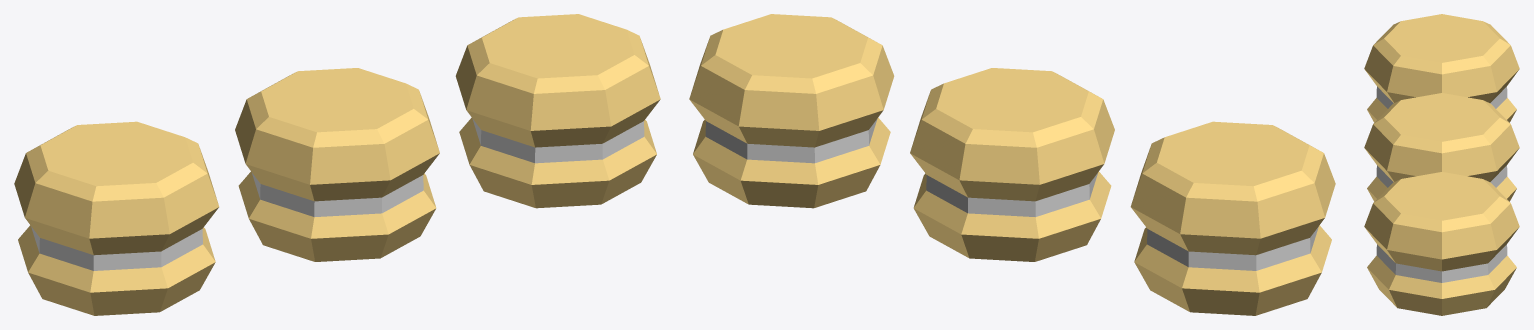
File: Macaron_2.fbx
3 views of the same model, side by side, from view 1: azimuth 30°, elevation 25°; view 2: azimuth 150°, elevation 25°; view 3: azimuth 270°, elevation 25° (orthographic). The views are drawn at different scales.
Parts seen in each view (by area): view 1: Macaron_2; view 2: Macaron_2; view 3: Macaron_2.
Part boxes in pixels (x1,y1,x2,y2): Macaron_2: (14,14,660,315); Macaron_2: (689,14,1335,315); Macaron_2: (1364,14,1519,315).
Size of the model in its own units: 27.63 by 5.36 by 8.13.
